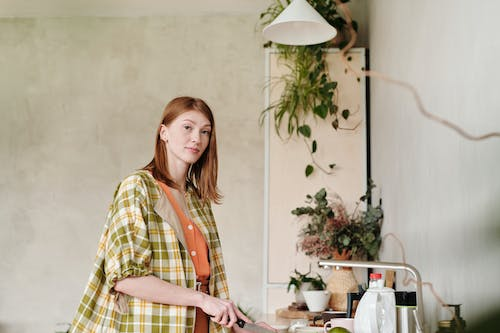knife: (234, 316, 276, 333)
